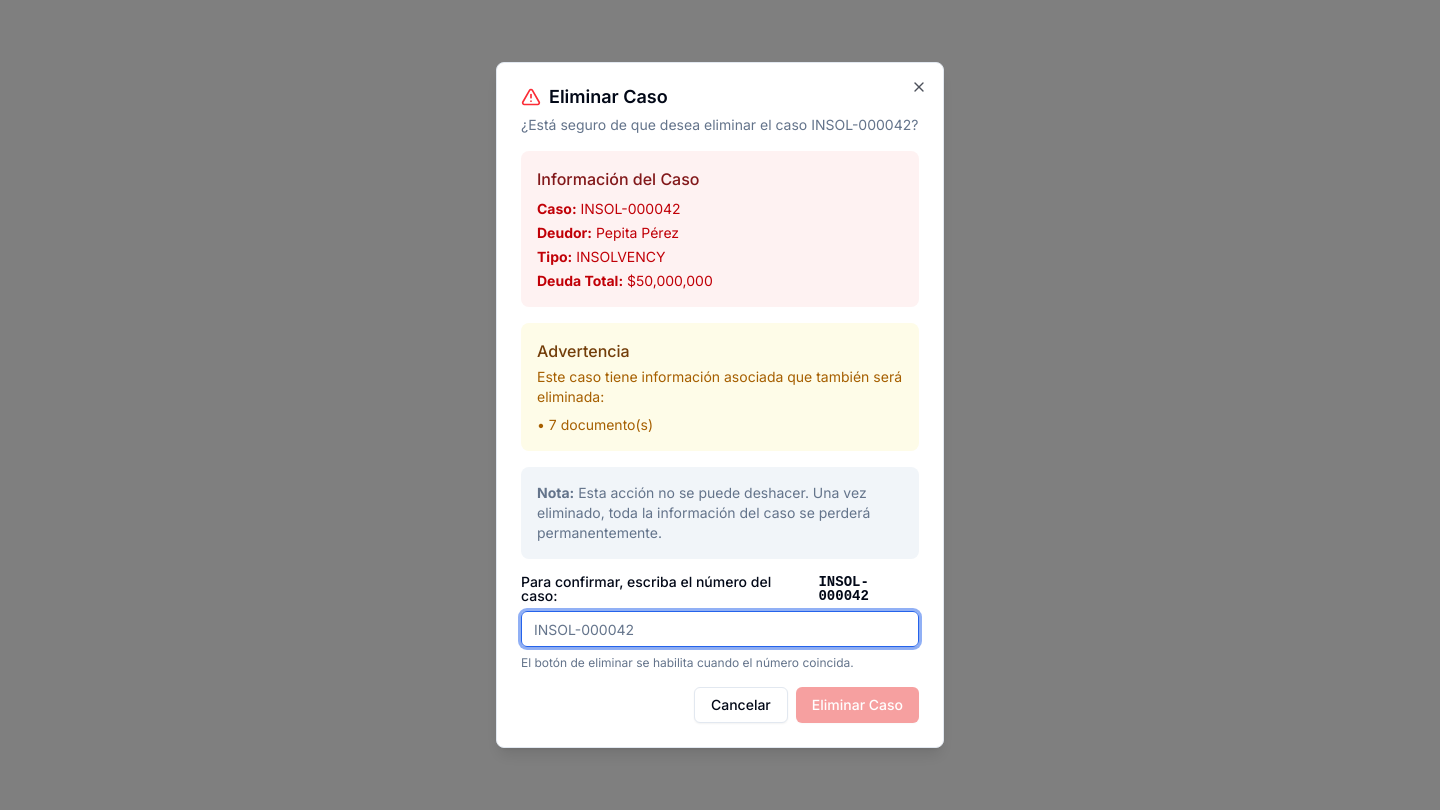
Scenario: DeleteCaseDialog — confirmación escrita (GC-M6) › con un número parecido pero distinto, sigue deshabilitado
In the field labelled "Para confirmar, escriba el número del caso: INSOL-000042": (720, 629) [521,611,919,647], type "INSOL-000041"
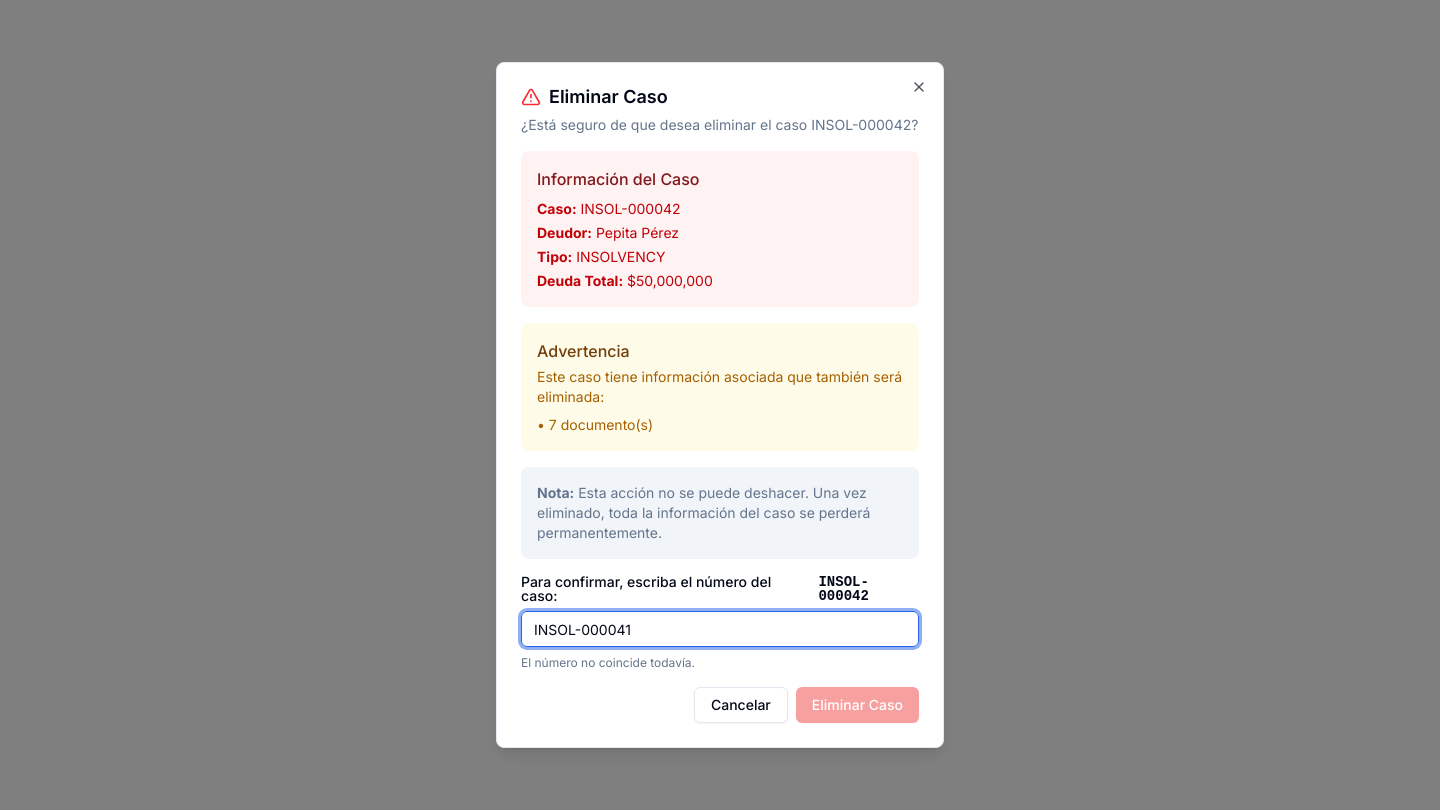
Check: the button "Eliminar Caso" is disabled, box [796,687,919,723]
Check: the text "El número no coincide todavía." is shown, box [521,655,695,670]
